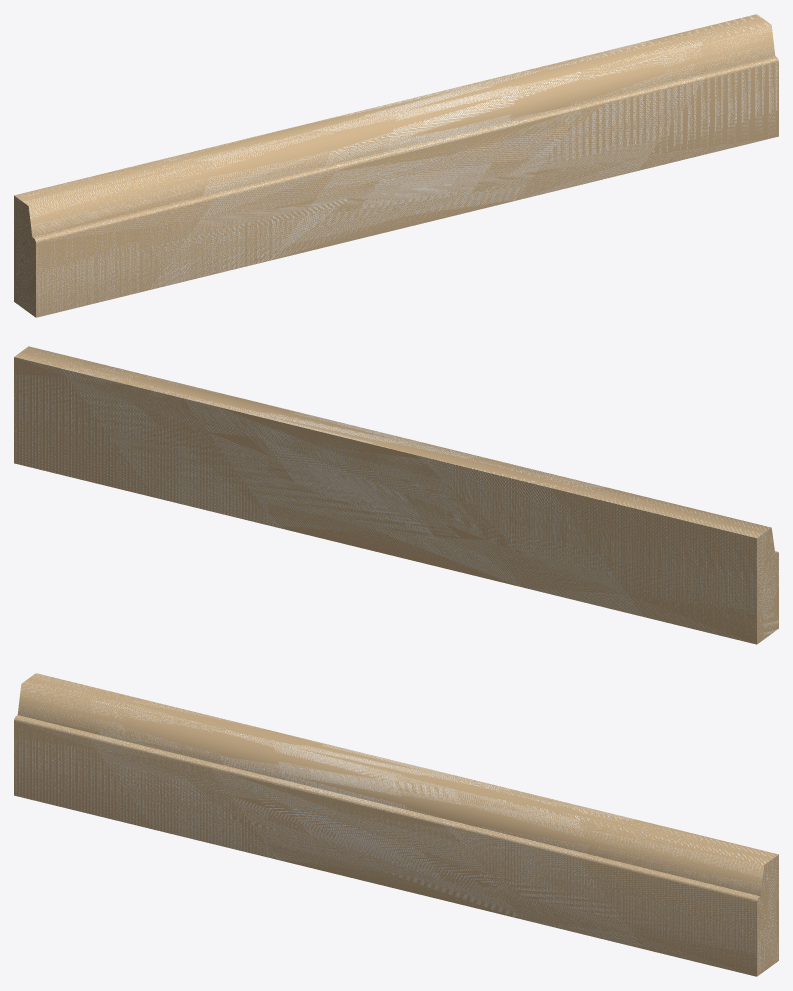
The model's file is original-55.obj.
3 views of the same model, one above another, from view 1: azimuth 30°, elevation 25°; view 2: azimuth 150°, elevation 25°; view 3: azimuth 330°, elevation 25° (orthographic).
Parts seen in each view (by area): view 1: DF_21_B2/DF_21_B/mesh23/mesh23-geometry#mesh23-geometry; view 2: DF_21_B2/DF_21_B/mesh23/mesh23-geometry#mesh23-geometry; view 3: DF_21_B2/DF_21_B/mesh23/mesh23-geometry#mesh23-geometry.
Boxes of the visible parts, x1=… form: DF_21_B2/DF_21_B/mesh23/mesh23-geometry#mesh23-geometry: x1=14, y1=14, x2=778, y2=317; DF_21_B2/DF_21_B/mesh23/mesh23-geometry#mesh23-geometry: x1=14, y1=346, x2=778, y2=644; DF_21_B2/DF_21_B/mesh23/mesh23-geometry#mesh23-geometry: x1=14, y1=673, x2=778, y2=976.
Bounding box in the file's own units: 0.635 × 0.0868 × 0.0326.
